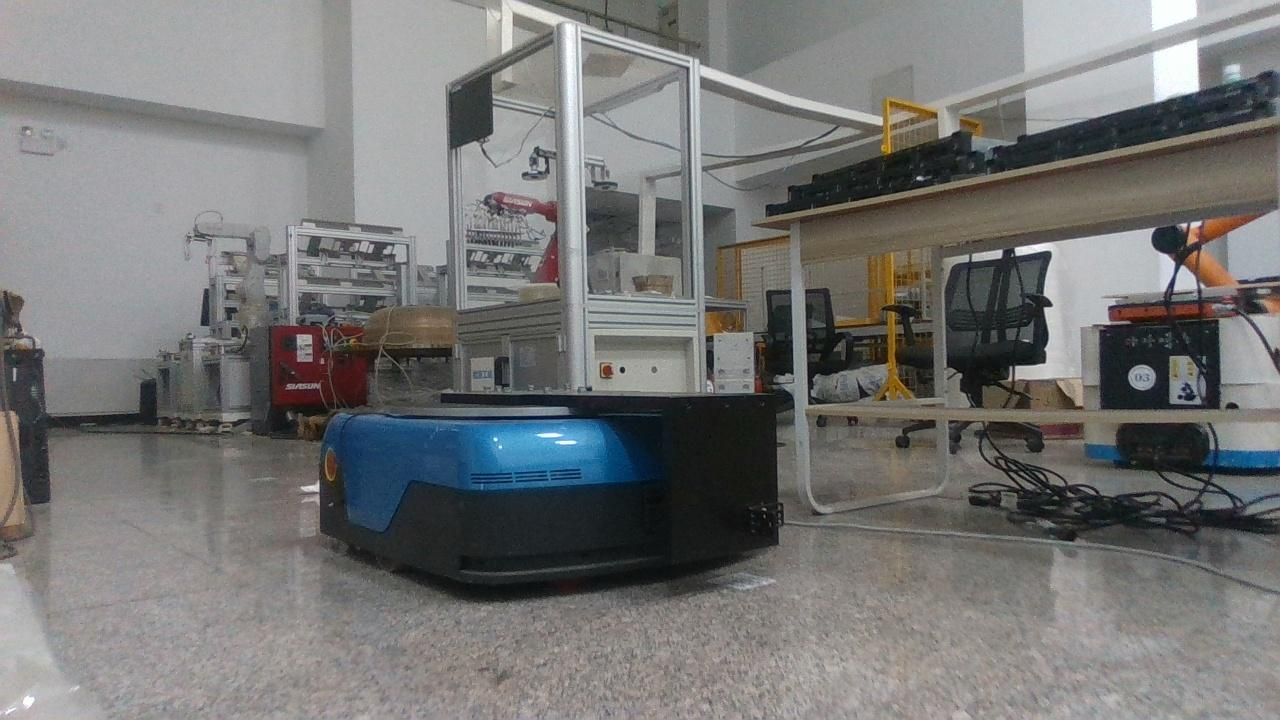AGV: (320, 392, 784, 584)
